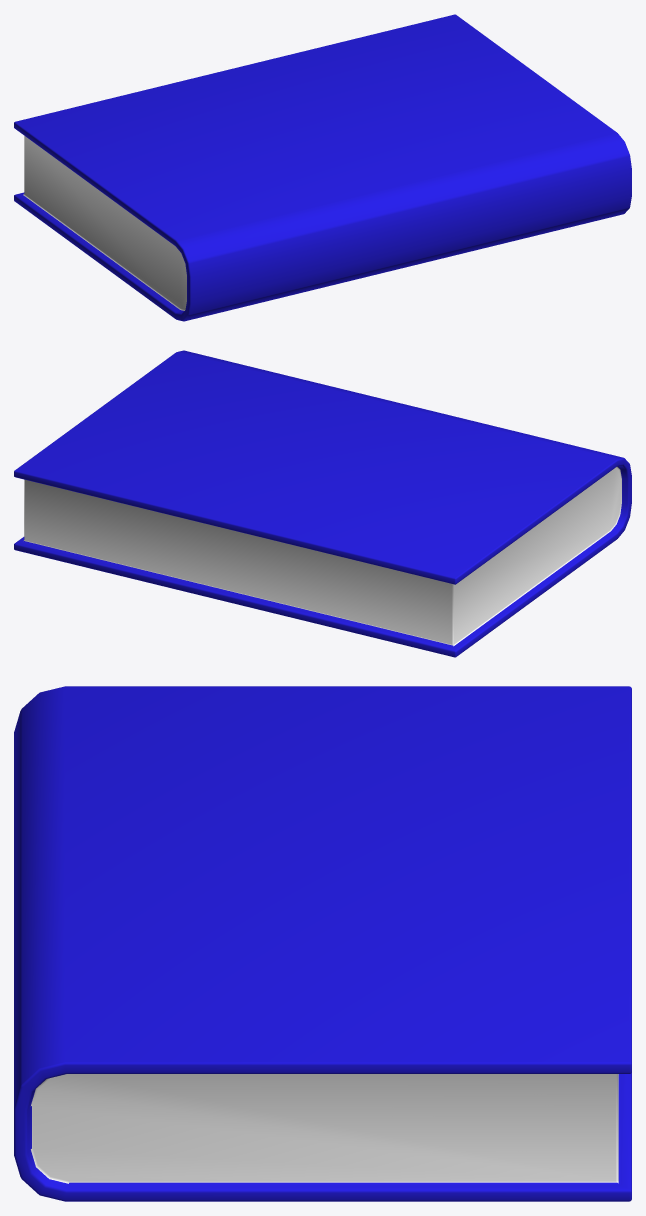
The model's file is BookModsApplied.fbx.
3 renders of one model, top to bottom at view 1: azimuth 30°, elevation 25°; view 2: azimuth 150°, elevation 25°; view 3: azimuth 270°, elevation 25°, orthographic. The views are drawn at different scales.
Parts seen in each view (by area): view 1: Cube; view 2: Cube; view 3: Cube.
Part boxes in pixels (bbox=[...]): Cube: bbox=[14, 14, 631, 321]; Cube: bbox=[14, 350, 631, 657]; Cube: bbox=[14, 686, 631, 1201].
Bounding box in the file's own units: 182 × 31.35 × 126.
